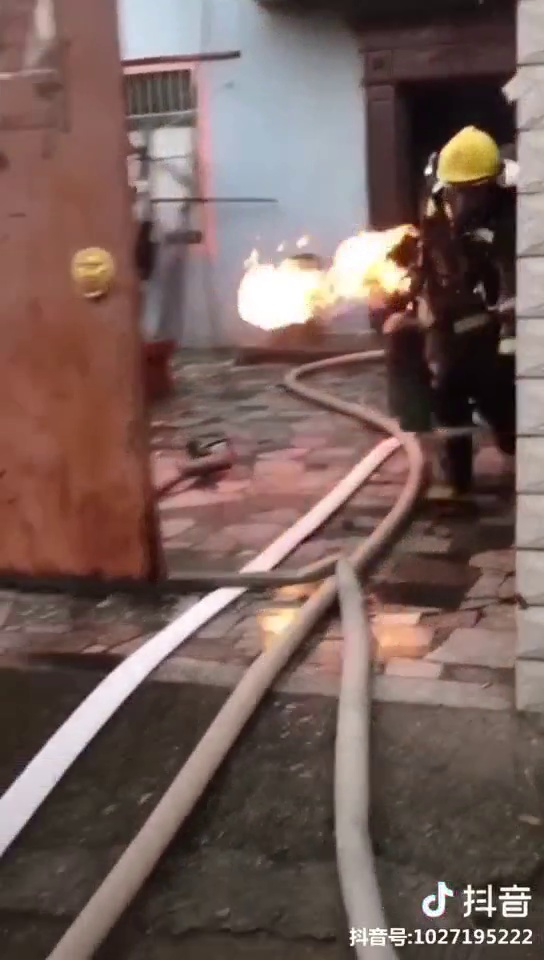fire: (222, 218, 390, 328)
